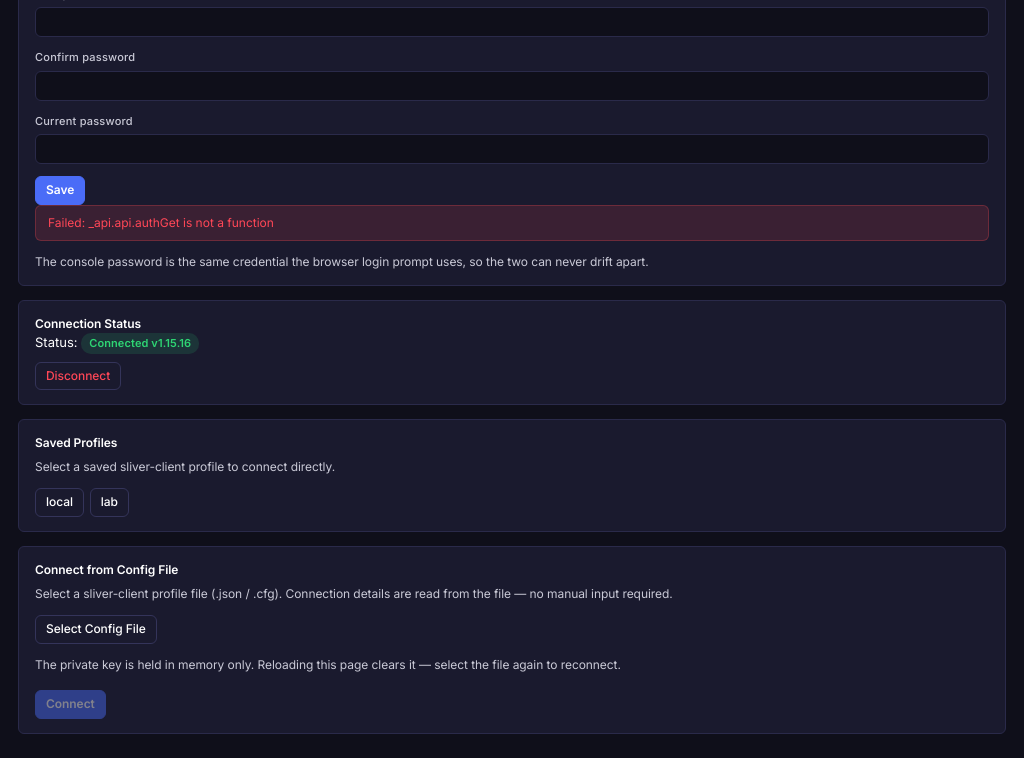
Scenario: SettingsPage › disconnects and confirms
The image size is (1024, 758).
(page scrolled)
Step 1. Click the button "Disconnect" → (78, 376), box 35,362 -> 121,390
(page scrolled)
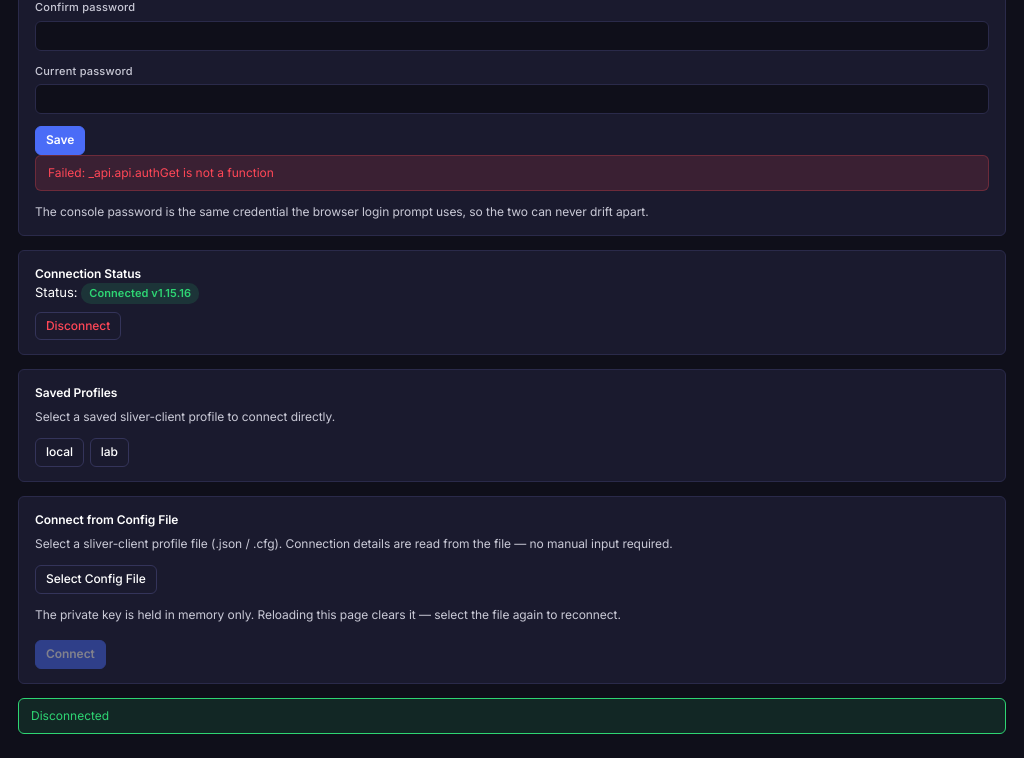
Result: the text "Disconnected" is shown at 18,698 -> 1006,734
